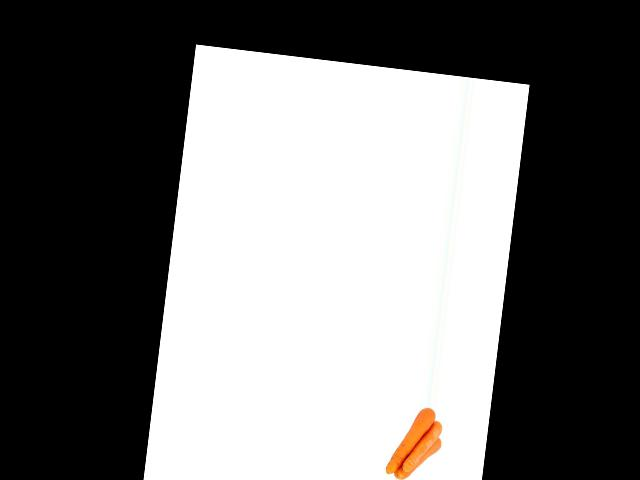carrot: (386, 403, 436, 476)
